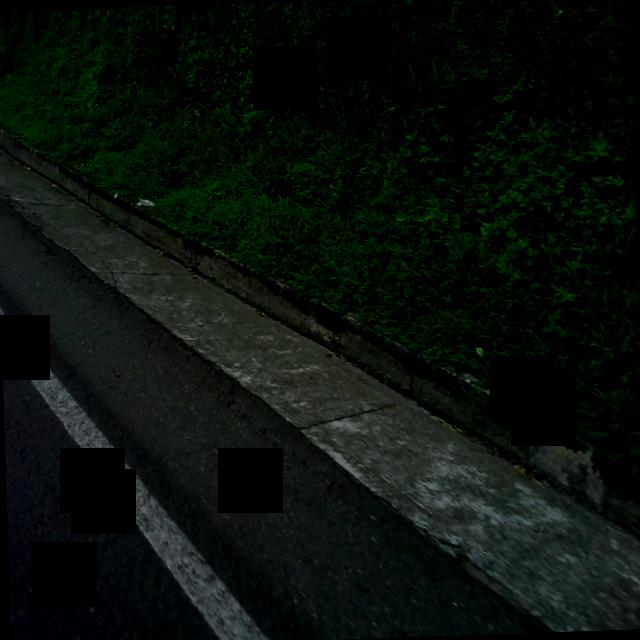DITCH: (0, 75, 640, 640), (0, 101, 640, 640)
